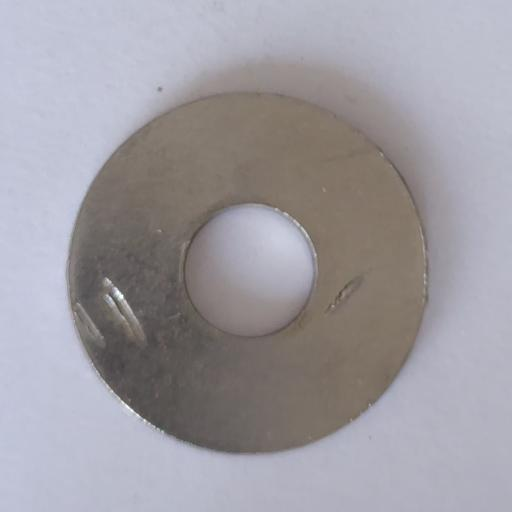scratch: (102, 278, 149, 349), (324, 276, 365, 318), (73, 302, 106, 348)
